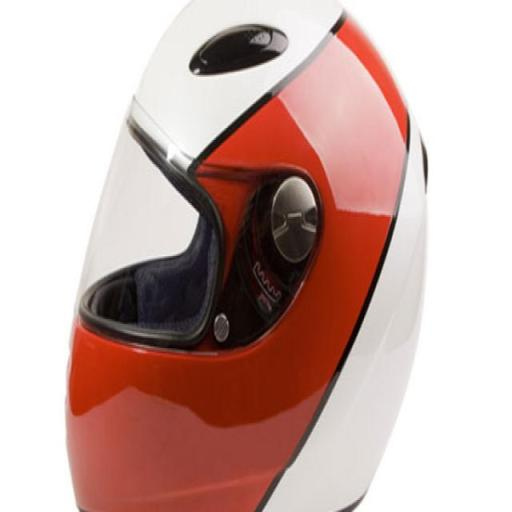Helmet: (64, 0, 443, 512)
